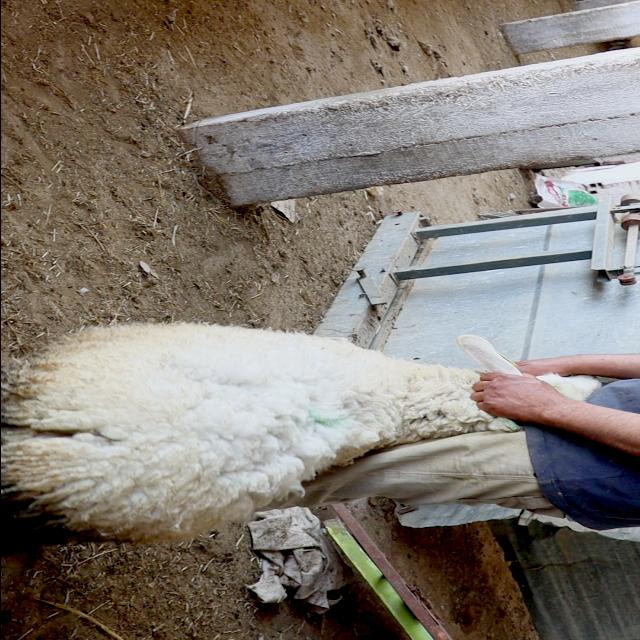Score_4: (1, 323, 504, 543)
